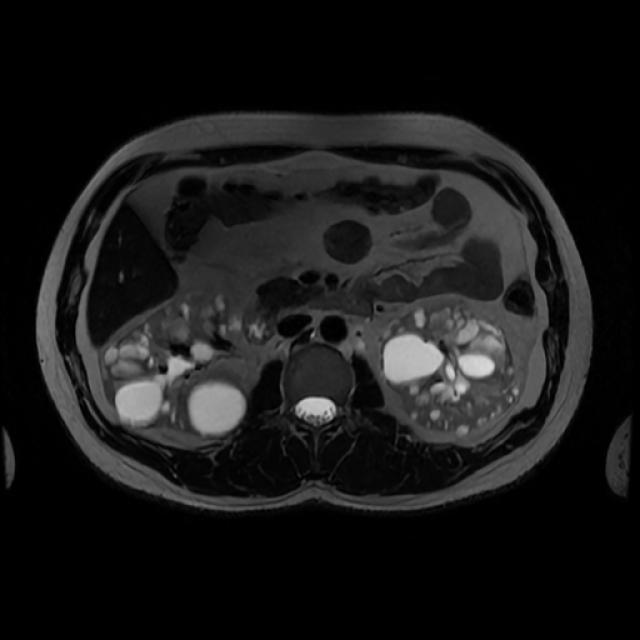sag: (101, 286, 252, 442)
sol: (380, 301, 518, 438)
